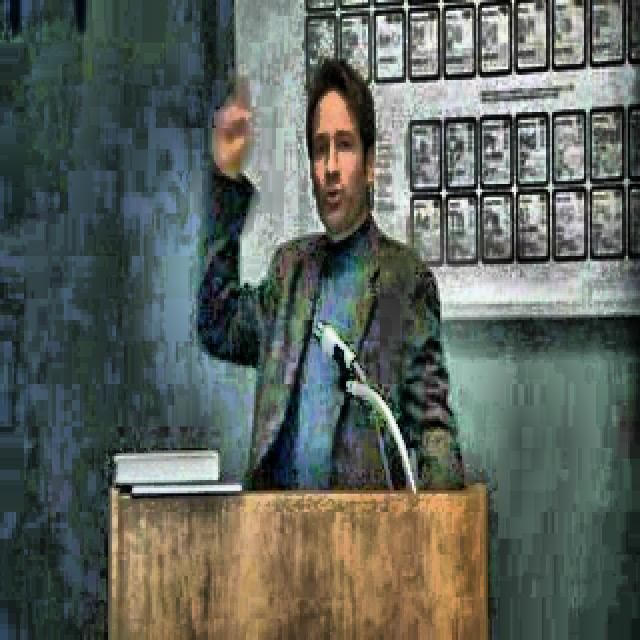T: (169, 45, 482, 523)
